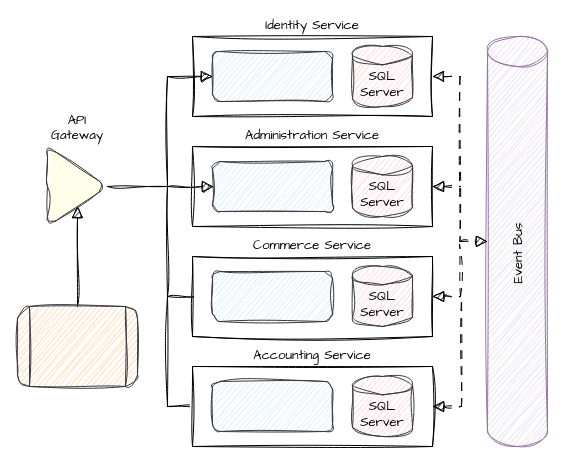
Some shapes in this 565 by 464 pixel diagram are drawn without their labels. The shapes that lost their labels are listed below. From the top down, each one's centre as x and y in pixels, then its label:
(272,76): Identity API
(272,186): Admin API
(272,296): Commerce API
(77,346): Angular App
(272,406): Accounting API
